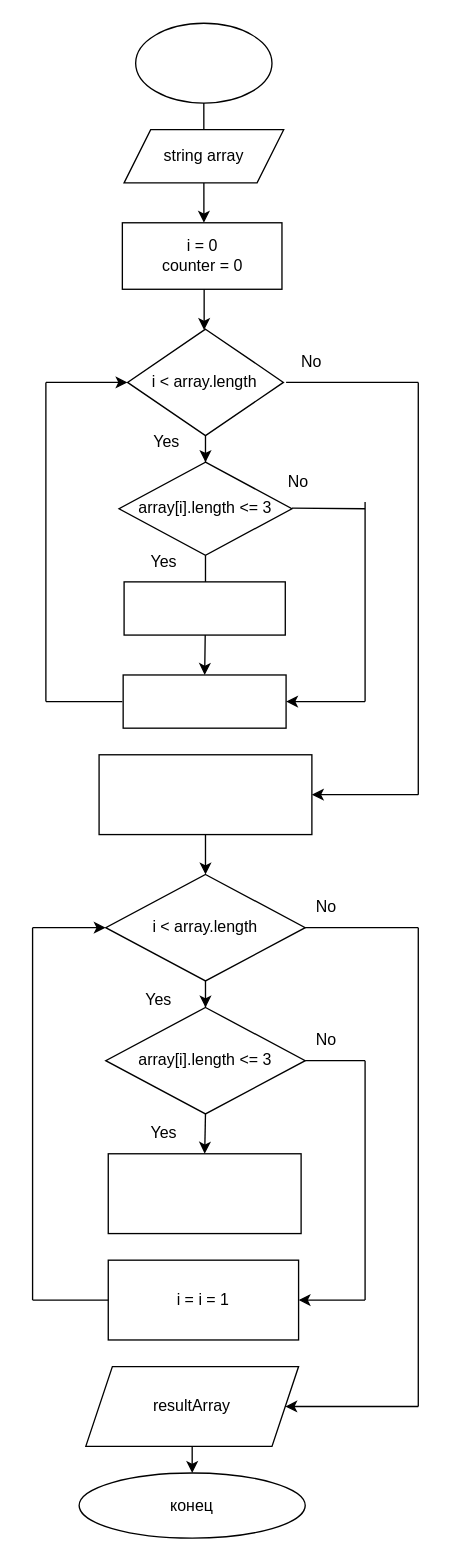
Some shapes in this 452 by 1561 pixel diagram are drawn without their labels. The shapes that lost their labels are listed below. From the top down, each one's centre as x and y in pixels, then its label:
At [203,62]: "начало".
At [204,608]: "counter = counter + 1".
At [204,701]: "i = i + 1".
At [205,794]: "Create resultArray[coumter] j = 0 i = 0".
At [204,1193]: "resultarray[j] = array[i] j = j + 1".
